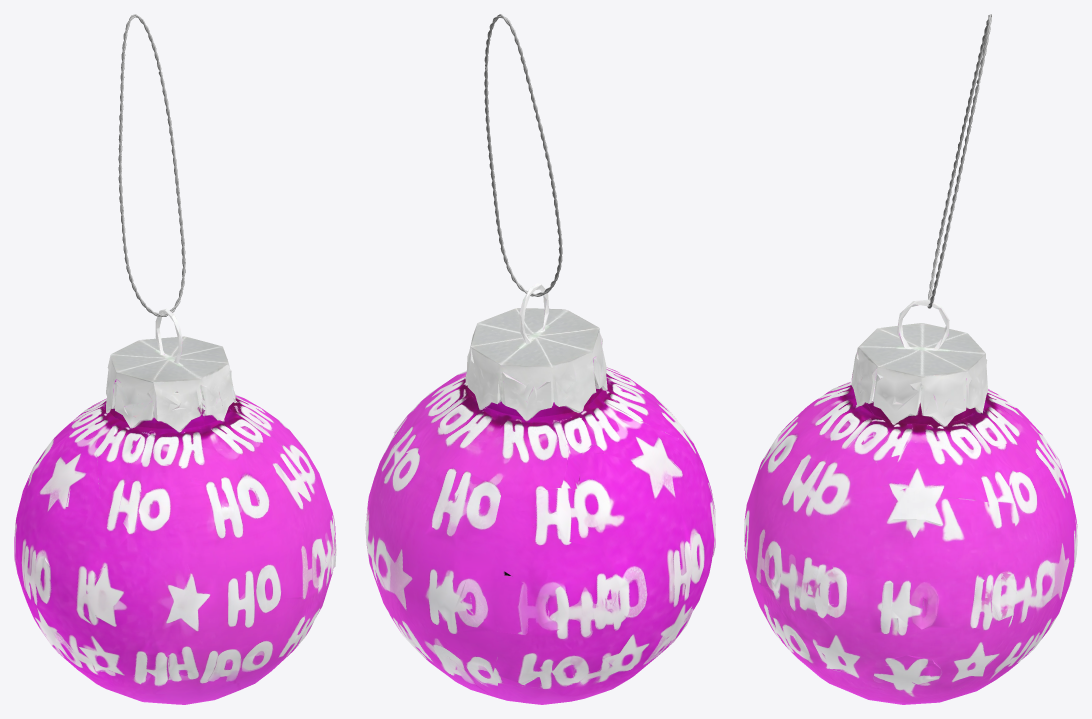
File: Pink_Ho_Ho_Ho.glb
3 renders of one model, left to right at view 1: azimuth 30°, elevation 25°; view 2: azimuth 150°, elevation 25°; view 3: azimuth 270°, elevation 25°, orthographic. The views are drawn at different scales.
Visible parts, largest first — view 1: Mesh1.0, GN Instance; view 2: Mesh1.0, GN Instance; view 3: Mesh1.0, GN Instance.
Boxes of the visible parts, bbox=[...] form: Mesh1.0: bbox=[14, 308, 336, 704]; GN Instance: bbox=[118, 14, 185, 316]; Mesh1.0: bbox=[365, 283, 715, 704]; GN Instance: bbox=[484, 14, 562, 296]; Mesh1.0: bbox=[744, 299, 1077, 704]; GN Instance: bbox=[927, 14, 991, 308].
Bounding box in the file's own units: 0.0402 × 0.089 × 0.04.
2 materials, 1 textured.
